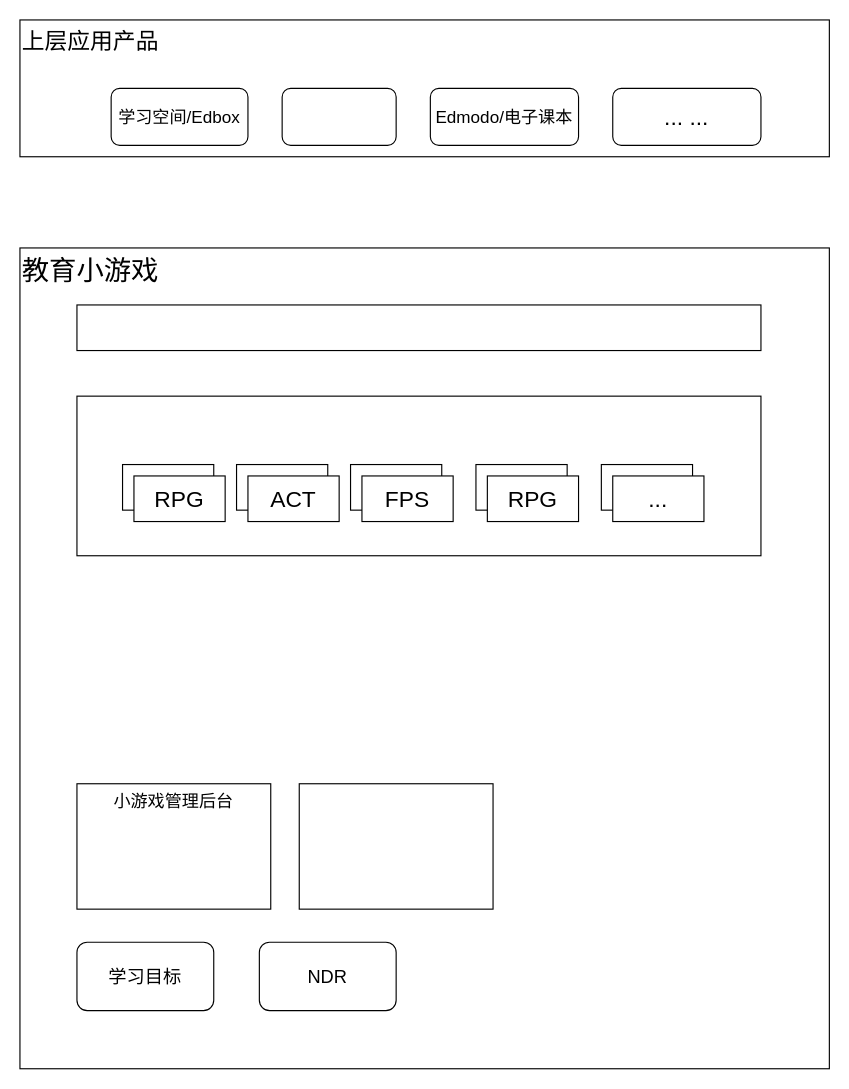
Some shapes in this 849 by 1089 pixel diagram are drawn without their labels. Each missing label, with the box of its shape:
ToC学习平台: (281, 87, 396, 145)
小游戏接入层: (76, 304, 761, 351)
小游戏集: (76, 395, 761, 556)
